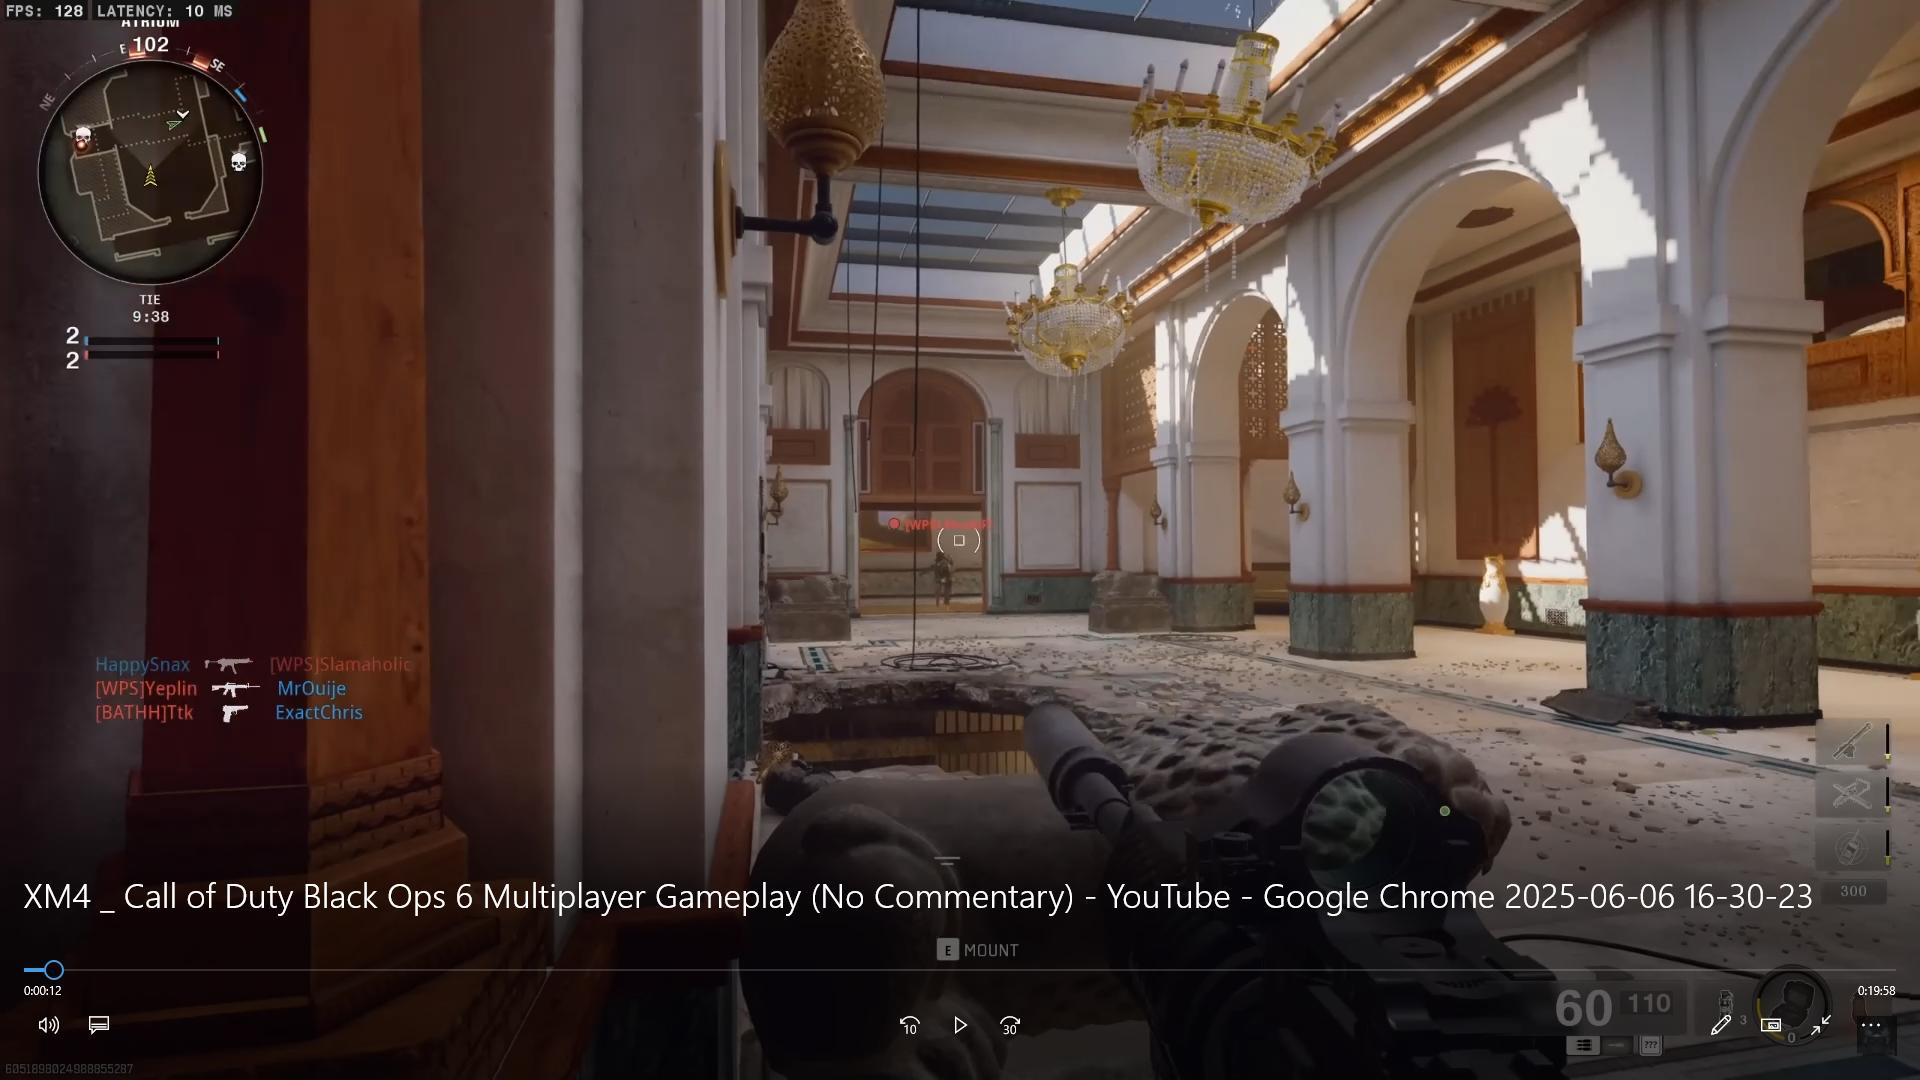Enemy: (919, 546, 963, 608)
